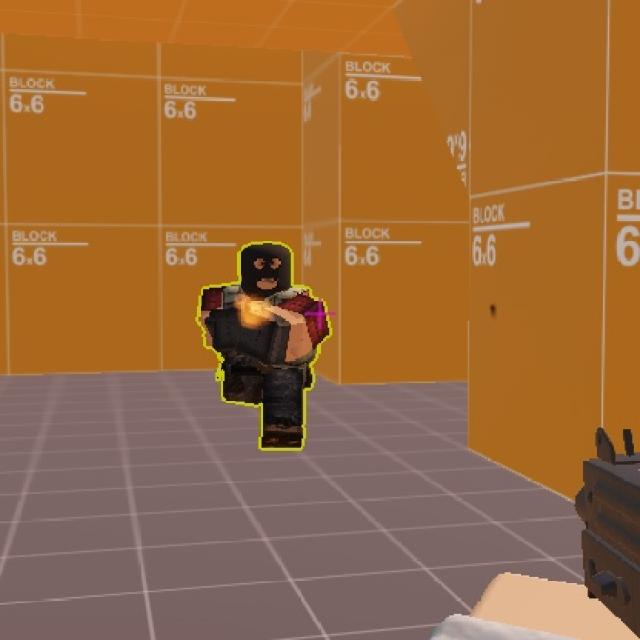player: (198, 231, 329, 462)
